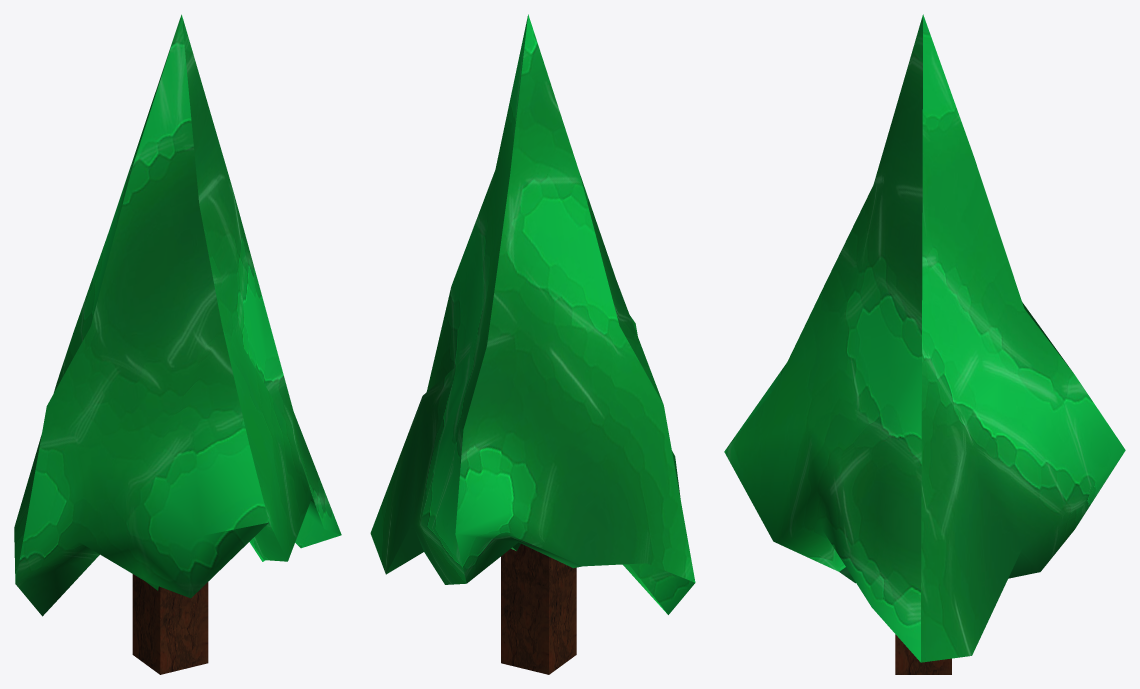
The model's file is pinetree4.fbx.
3 renders of one model, left to right at view 1: azimuth 30°, elevation 25°; view 2: azimuth 150°, elevation 25°; view 3: azimuth 270°, elevation 25°, orthographic.
Visible parts, largest first — view 1: polymsh; view 2: polymsh; view 3: polymsh.
Part boxes in pixels (x1,y1,x2,y2): polymsh: [14, 14, 341, 674]; polymsh: [370, 14, 695, 674]; polymsh: [724, 14, 1125, 674].
Bounding box in the file's own units: 54.28 × 102 × 56.87.
